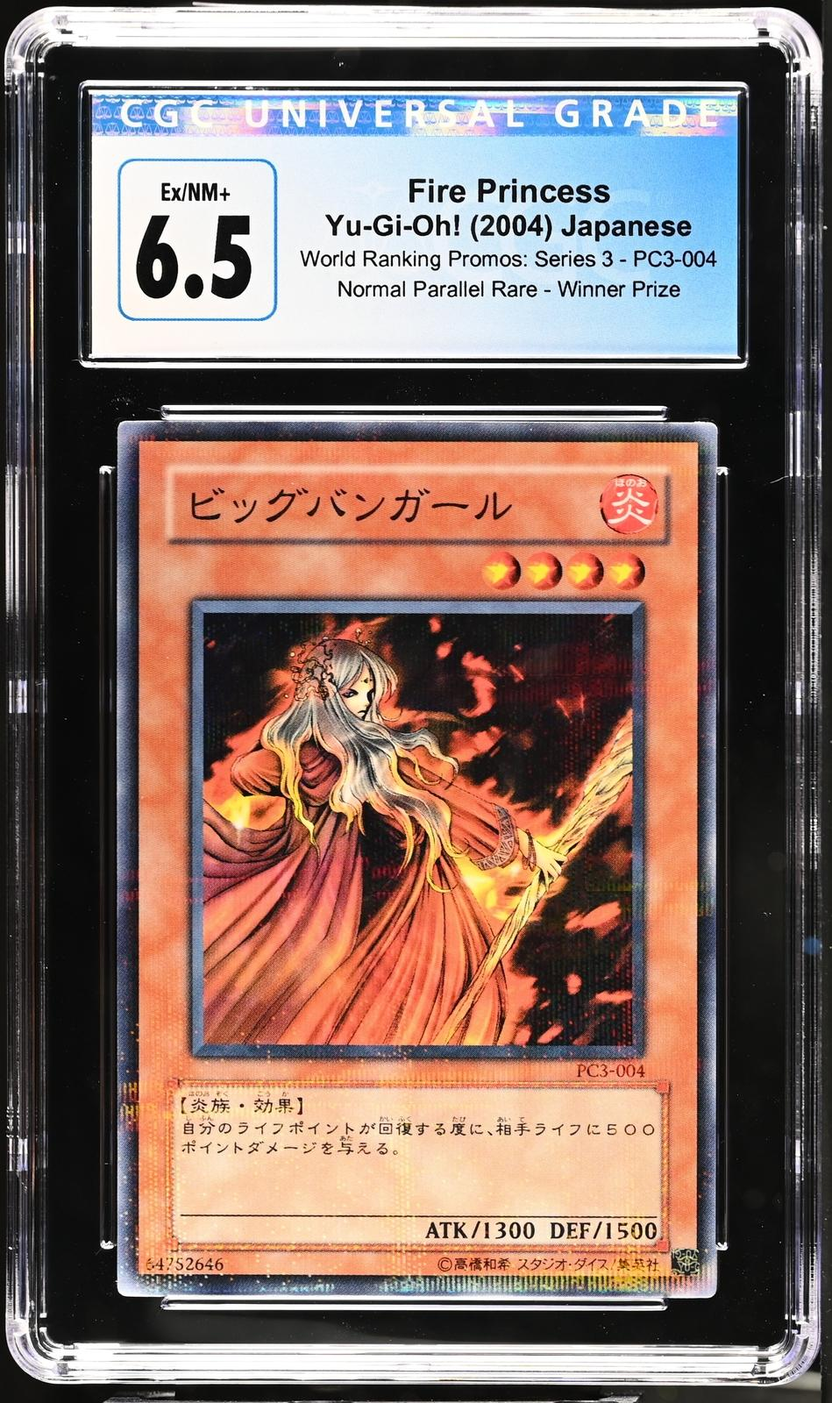card-2UtV: (116, 420, 718, 1299)
